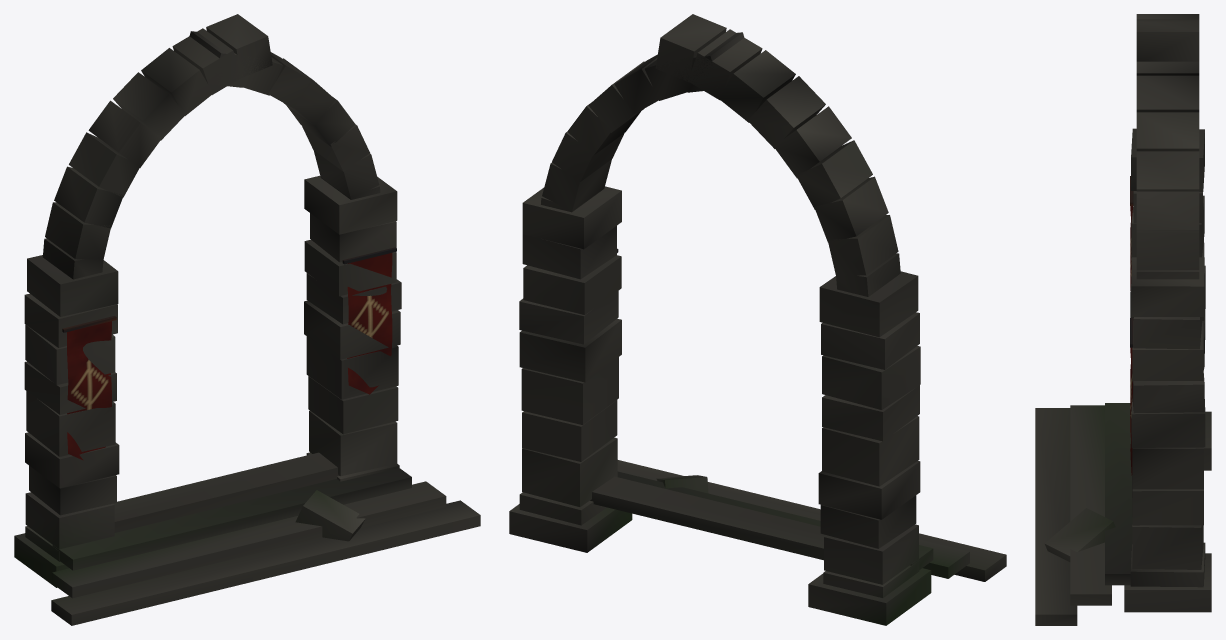
Rendered from gate.glb.
3 views of the same model, side by side, from view 1: azimuth 30°, elevation 25°; view 2: azimuth 150°, elevation 25°; view 3: azimuth 270°, elevation 25° (orthographic). The views are drawn at different scales.
Parts seen in each view (by area): view 1: gate; view 2: gate; view 3: gate.
Boxes of the visible parts, box(x1,y1,x2,y2) form: gate: box(14, 14, 480, 625); gate: box(509, 14, 1006, 625); gate: box(1035, 14, 1211, 625).
Bounding box in the file's own units: 7 × 8.23 × 2.53.
